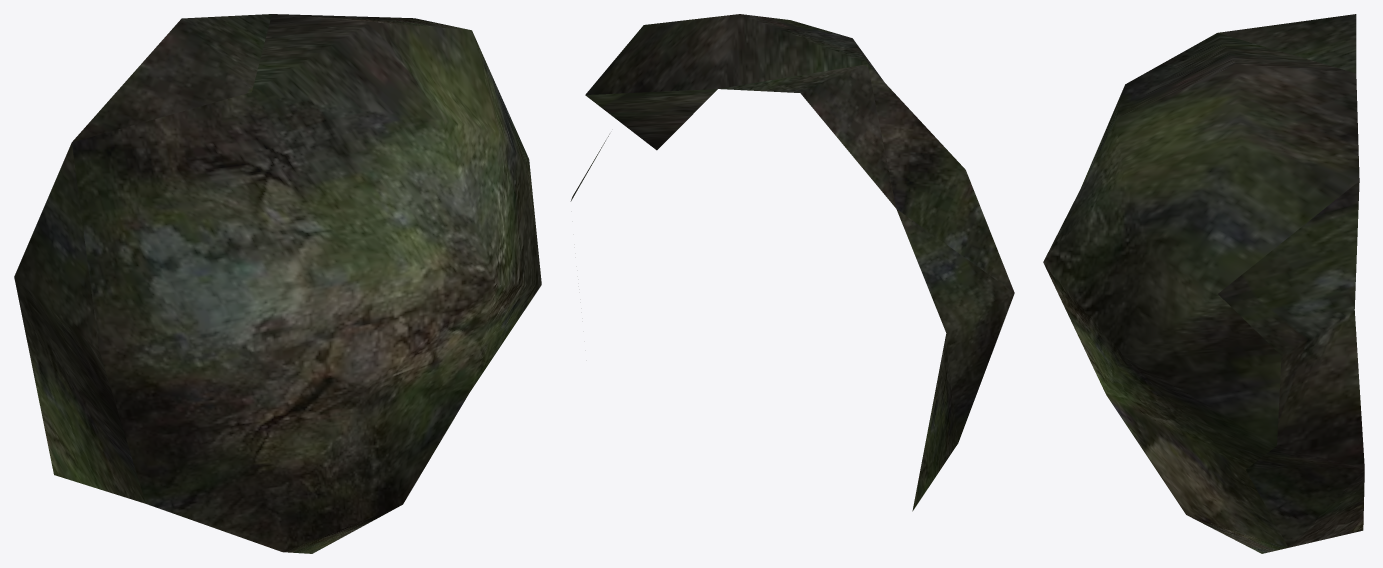
The picture shows the model from 3 angles, left to right: view 1: azimuth 30°, elevation 25°; view 2: azimuth 150°, elevation 25°; view 3: azimuth 270°, elevation 25°; orthographic projection. The views are drawn at different scales.
Parts seen in each view (by area): view 1: model_Object21; view 2: model_Object21; view 3: model_Object21.
Part boxes in pixels (left/top/right/bottom): model_Object21: left=14, top=14, right=541, bottom=553; model_Object21: left=570, top=14, right=1014, bottom=511; model_Object21: left=1043, top=14, right=1364, bottom=553.
Size of the model in its own units: 3.92 by 4.38 by 2.53.
1 material, 1 textured.
